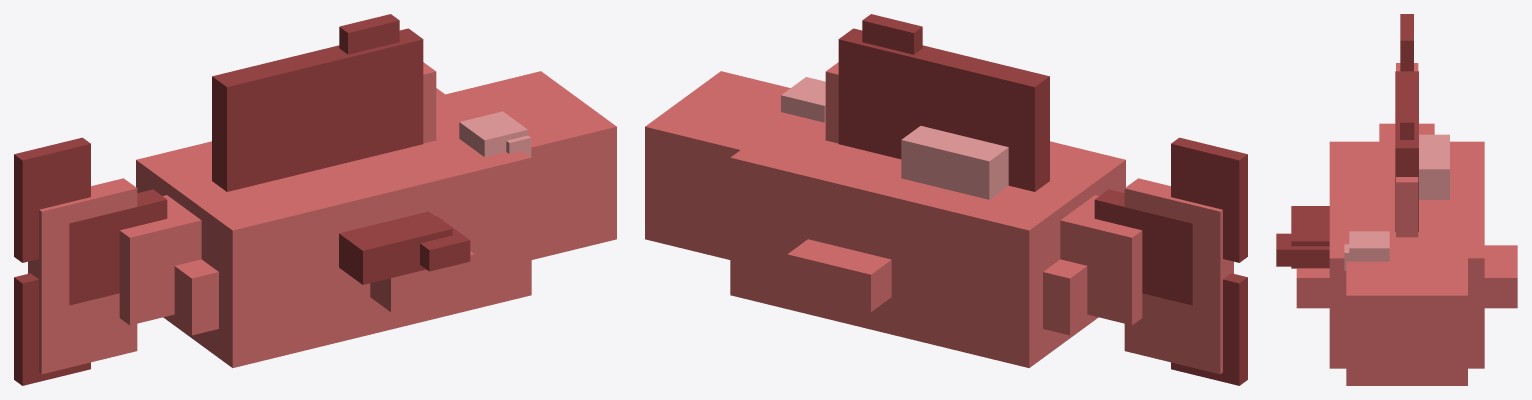
Rendered from fish_plaza_wrasse.glb.
3 views of the same model, side by side, from view 1: azimuth 30°, elevation 25°; view 2: azimuth 150°, elevation 25°; view 3: azimuth 270°, elevation 25° (orthographic). The views are drawn at different scales.
Parts seen in each view (by area): view 1: FishArt_body, FishArt_dorsal, FishArt_tail, FishArt_pectoral, FishArt_eye; view 2: FishArt_body, FishArt_dorsal, FishArt_tail, FishArt_specialty, FishArt_eye; view 3: FishArt_body, FishArt_pectoral, FishArt_dorsal, FishArt_specialty, FishArt_eye, FishArt_tail.
Boxes of the visible parts, <box> form: FishArt_body: <box>28,62,616,374</box>; FishArt_dorsal: <box>212,14,423,191</box>; FishArt_tail: <box>14,137,167,385</box>; FishArt_pectoral: <box>339,211,470,284</box>; FishArt_eye: <box>459,111,531,156</box>; FishArt_body: <box>645,62,1233,374</box>; FishArt_dorsal: <box>838,14,1049,191</box>; FishArt_tail: <box>1094,137,1247,385</box>; FishArt_specialty: <box>901,126,1008,199</box>; FishArt_eye: <box>781,77,825,122</box>; FishArt_body: <box>1296,63,1517,385</box>; FishArt_pectoral: <box>1276,206,1329,268</box>; FishArt_dorsal: <box>1395,71,1418,231</box>; FishArt_specialty: <box>1419,134,1449,199</box>; FishArt_eye: <box>1344,231,1389,270</box>; FishArt_tail: <box>1400,14,1413,71</box>.
Size of the model in its own units: 0.3091 by 0.1442 by 0.1439.
